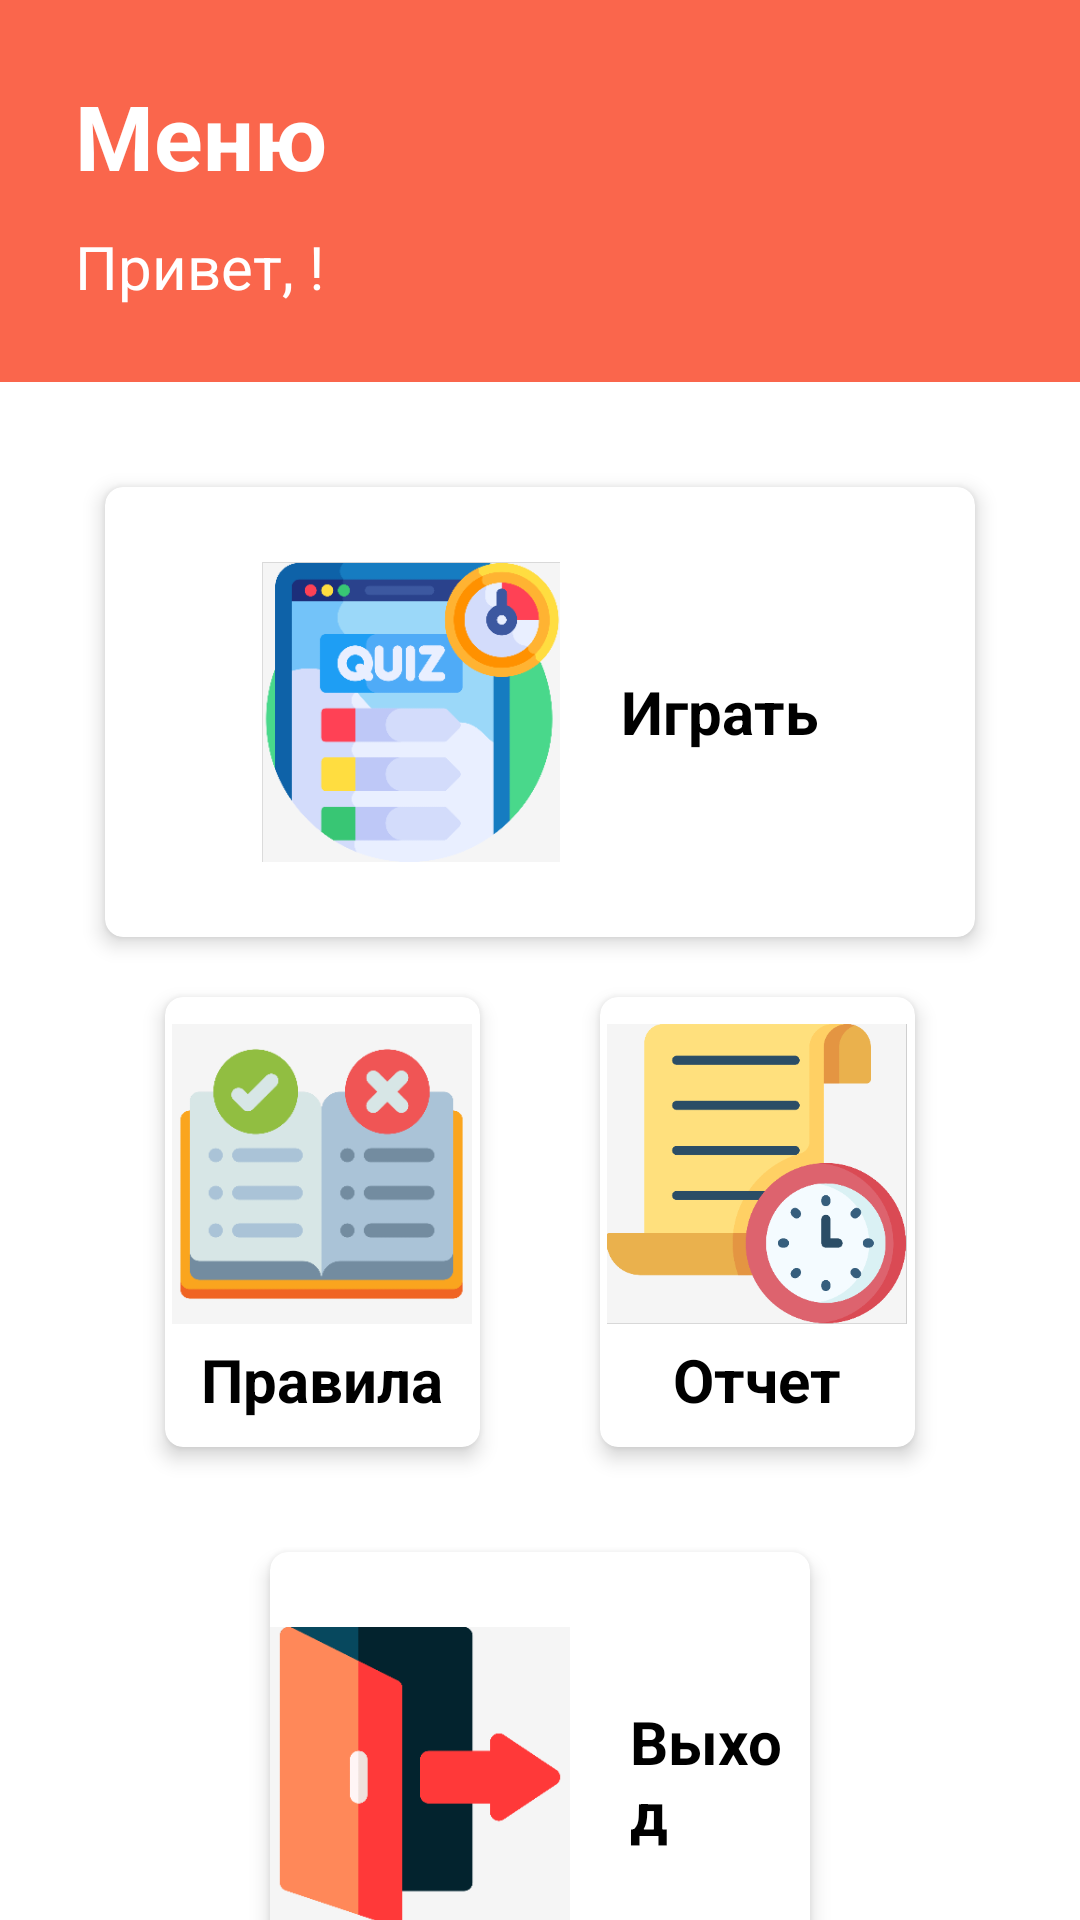

Icons on this 1080px×1920px Android screen, each with its box as (x1, y1, x2, y2):
exit: (279, 1627, 561, 1920)
history: (607, 1024, 907, 1324)
start: (262, 562, 560, 862)
